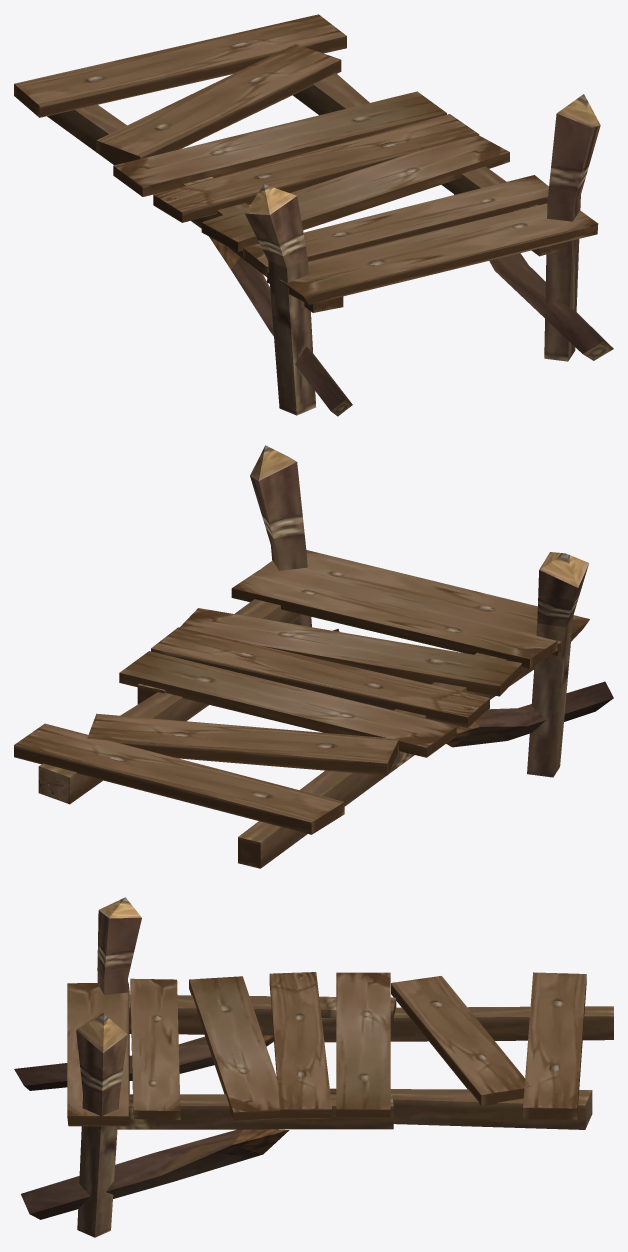
Rendered from FB5_muqiao01.FBX.
The picture shows the model from 3 angles, top to bottom: view 1: azimuth 30°, elevation 25°; view 2: azimuth 150°, elevation 25°; view 3: azimuth 270°, elevation 25°; orthographic projection. The views are drawn at different scales.
Visible parts, largest first — view 1: FB5_muqiao01; view 2: FB5_muqiao01; view 3: FB5_muqiao01.
Part boxes in pixels (x1,y1,x2,y2): FB5_muqiao01: [14, 14, 613, 416]; FB5_muqiao01: [14, 445, 613, 868]; FB5_muqiao01: [14, 897, 613, 1237].
Bounding box in the file's own units: 17895 × 12552 × 29695.
Materials: 1 (1 with a texture image).
